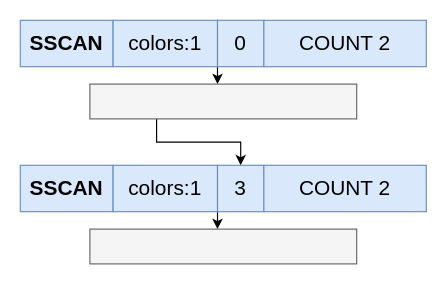
The diagram is 447 pixels wide and 284 high, and some of its shapes have lost their labels. Here are the shapes that lost their labels. From the top down, the centre of each, then its label:
(x=223, y=101): [3, ['orange', 'red'] ]
(x=223, y=246): [0, ['blue'] ]
